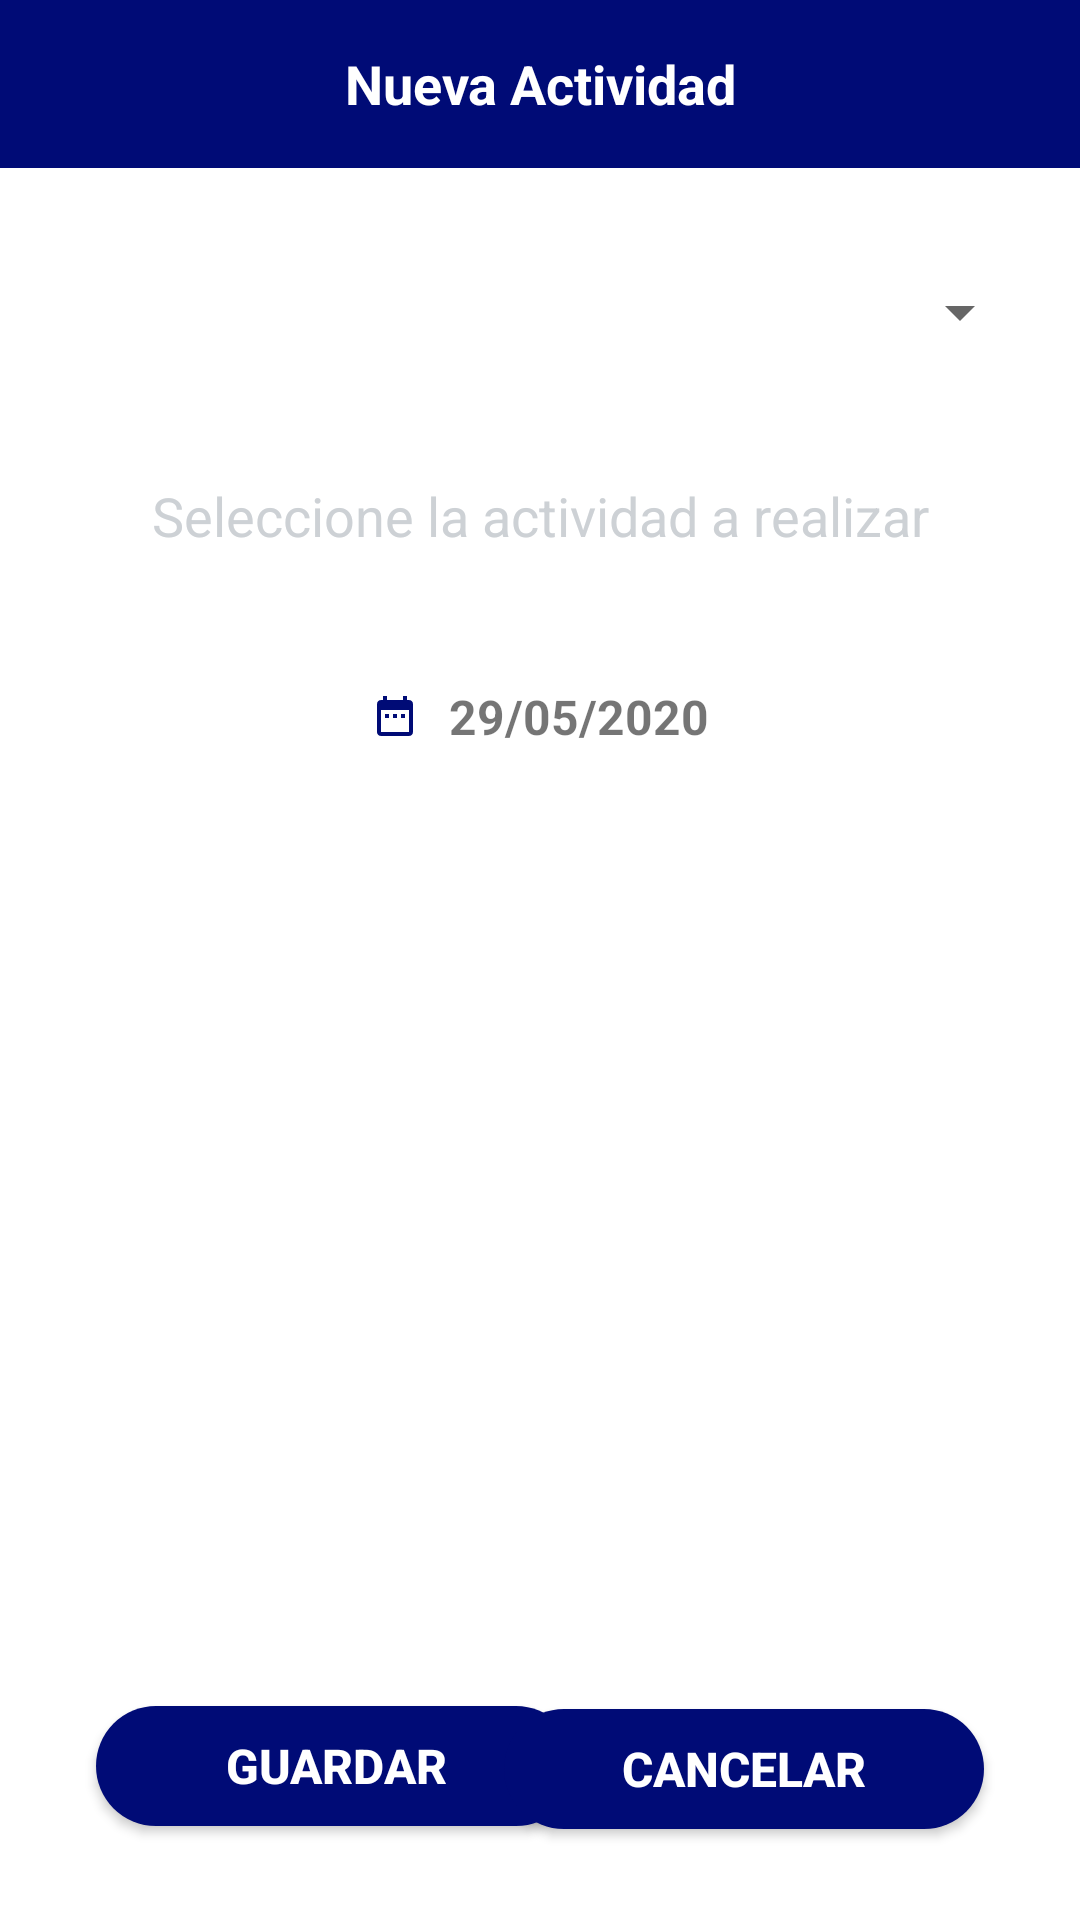

Screen size 1080*1920. Icon name, then its box in pixels as box(x1, y1, x2, y2):
date: box(377, 696, 413, 736)
